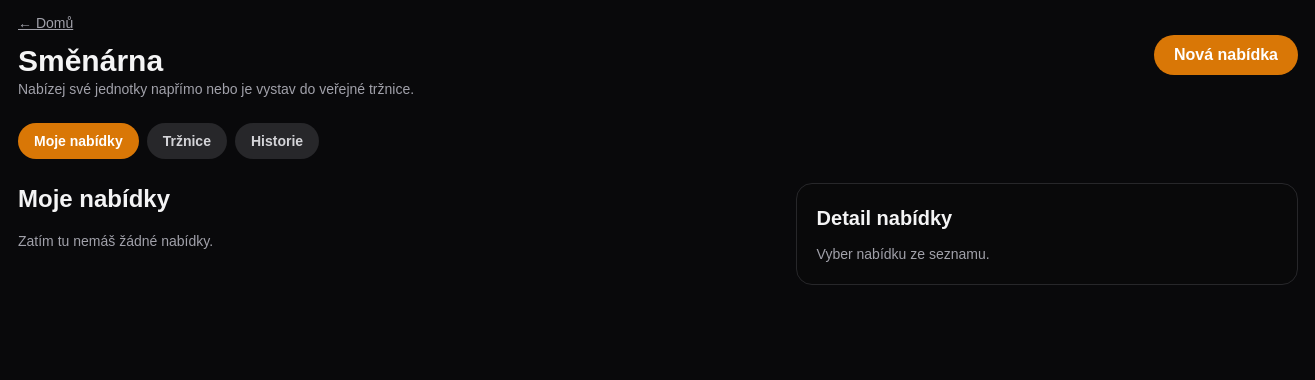
Test: ExchangePage › switches between the three exchange tabs
This screenshot has width=1315, height=380.
Expected: the heading "Směnárna" is shown, [18,44,163,77]
Click the button "Tržnice" at (187, 141), box [147,123,227,159]
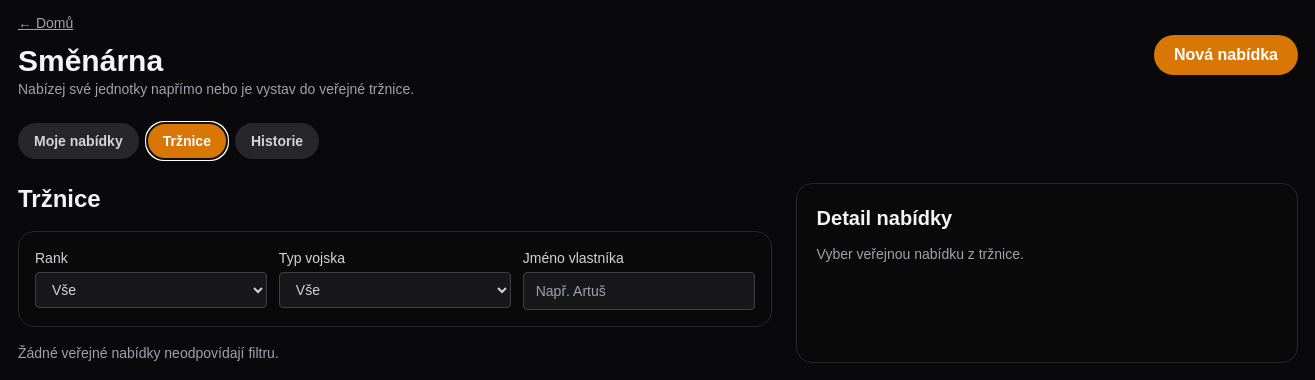
Result: the heading "Tržnice" is shown at [18,185,101,212]
Click the button "Historie" at (277, 141), box [235,123,319,159]
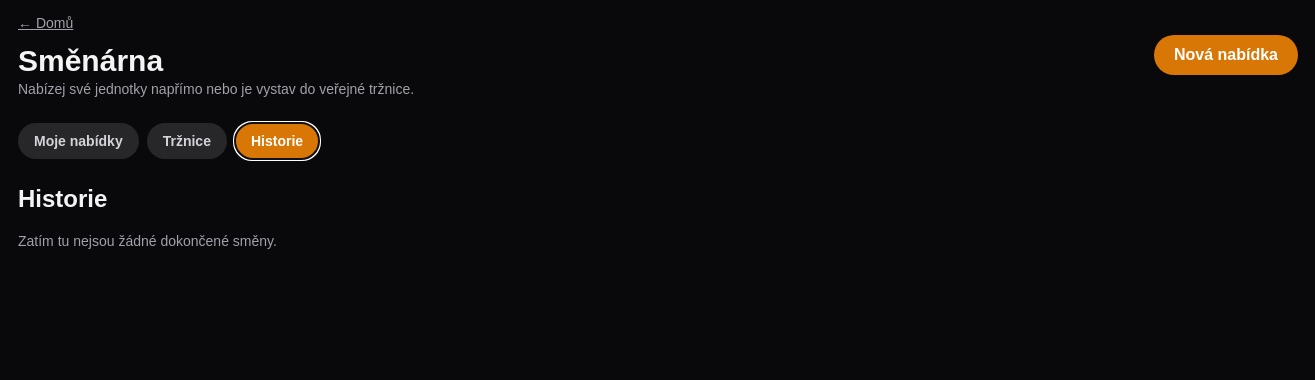
Result: the heading "Historie" is shown at [18,185,107,212]
Click the button "Moje nabídky" at (78, 141), box [18,123,139,159]
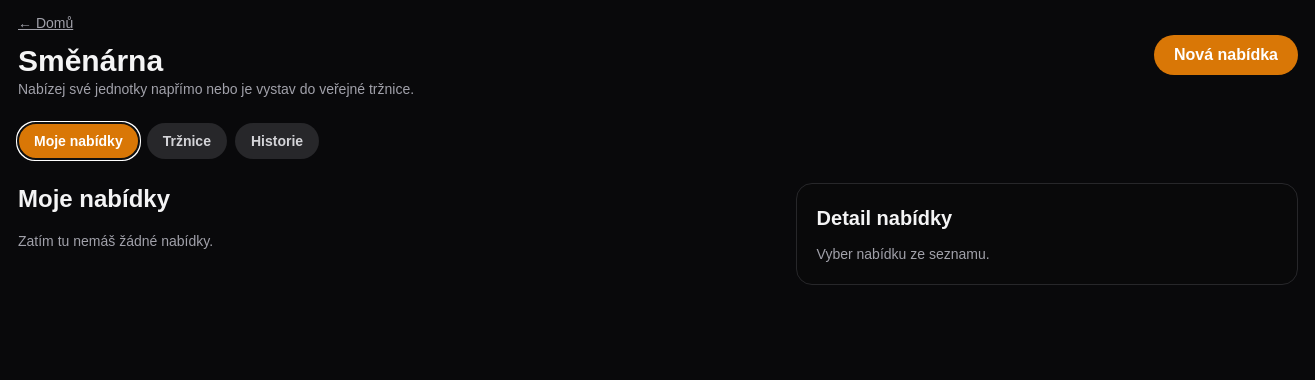
Result: the heading "Moje nabídky" is shown at [18,185,170,212]
